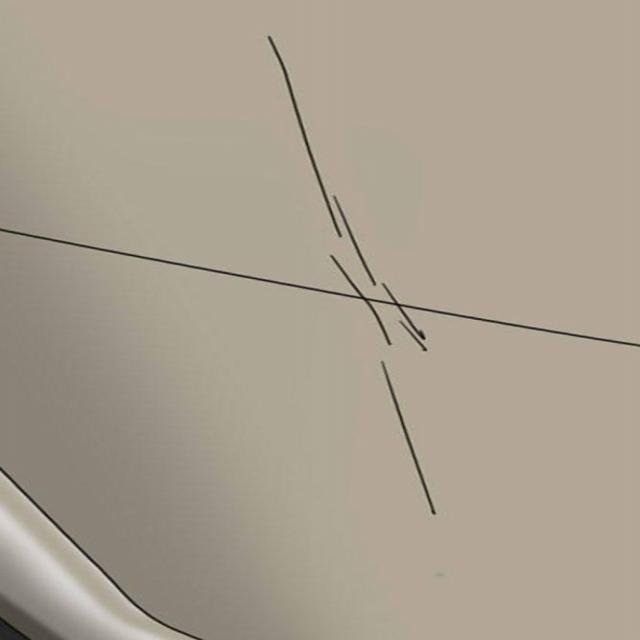scratch: (252, 32, 438, 356), (370, 359, 440, 525)
